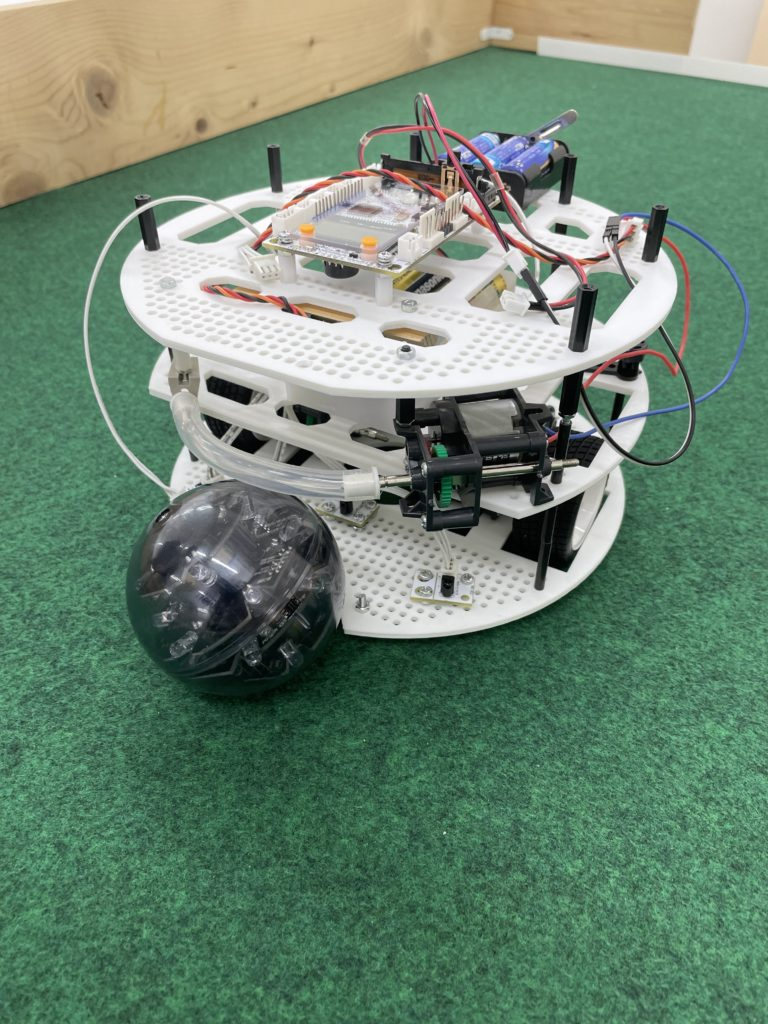Robot: (76, 116, 733, 712)
